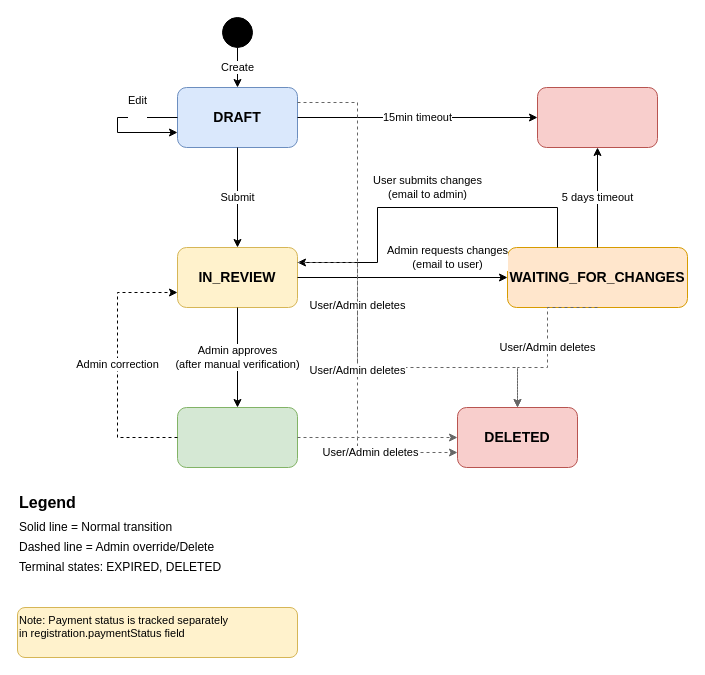
This 705x675 diagram has some shape labels left out. The centre of each missing label's shape, as x and y in pixels:
"APPROVED" goes at point (237, 437).
"EXPIRED" goes at point (597, 117).
